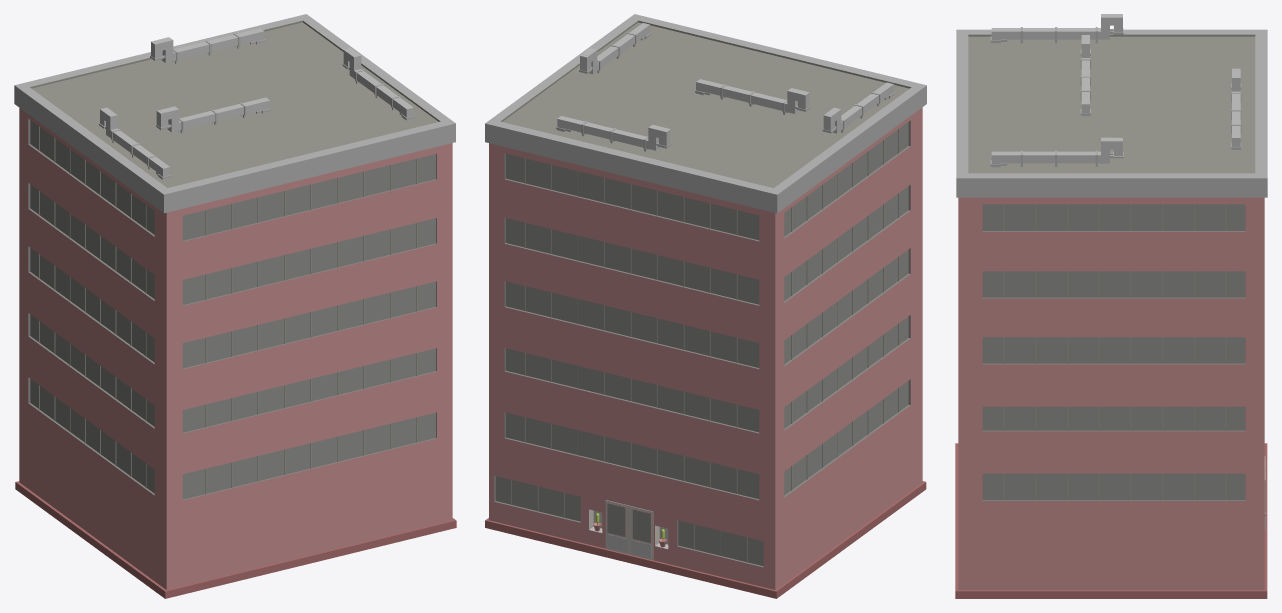
Rendered from house19.fbx.
The picture shows the model from 3 angles, left to right: view 1: azimuth 30°, elevation 25°; view 2: azimuth 150°, elevation 25°; view 3: azimuth 270°, elevation 25°; orthographic projection. The views are drawn at different scales.
Parts seen in each view (by area): view 1: Boole_4; view 2: Boole_4; view 3: Boole_4.
Part boxes in pixels (<box>): Boole_4: <box>14,14,456,598</box>; Boole_4: <box>485,14,926,598</box>; Boole_4: <box>955,14,1267,598</box>.
Size of the model in its own units: 1990 by 2779 by 1768.
